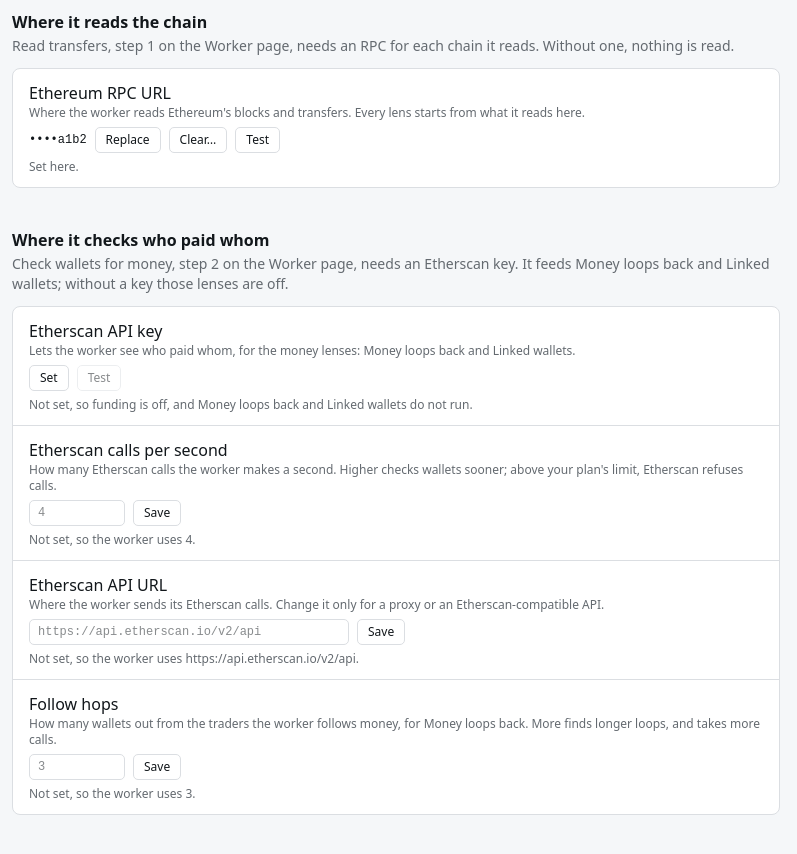
Settings, Test › shows the worker's error
Click the button "Test" in the row of "••••a1b2" at (258, 140), box [235, 127, 280, 153]
Wait 500 ms
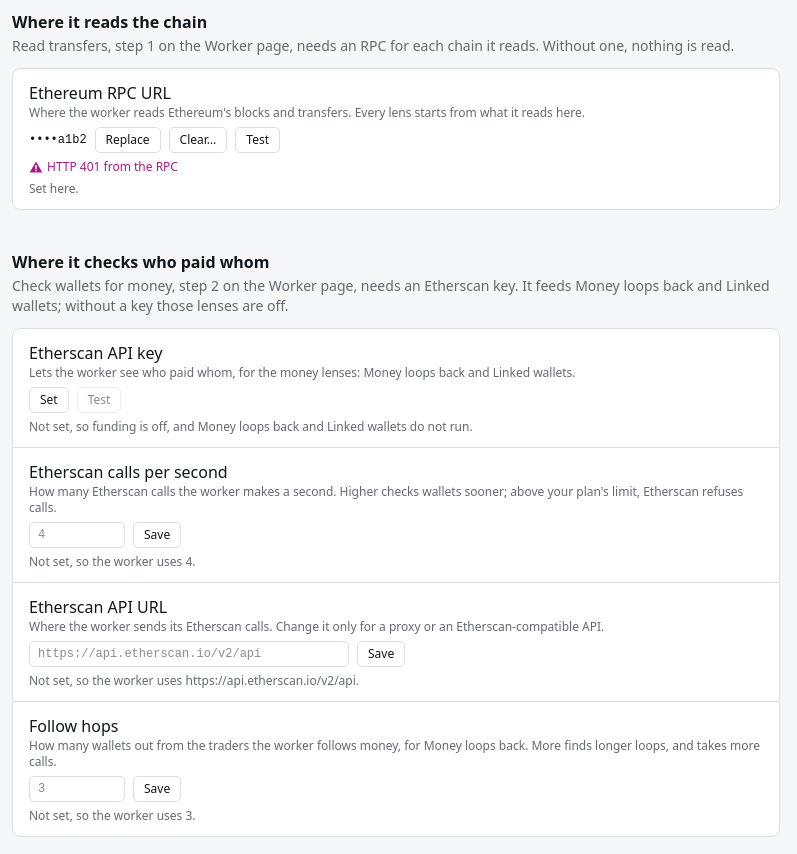
Check: the message "HTTP 401 from the RPC" is shown, box [29, 158, 178, 175]
